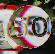Speed limit: (8, 6, 50, 48)
